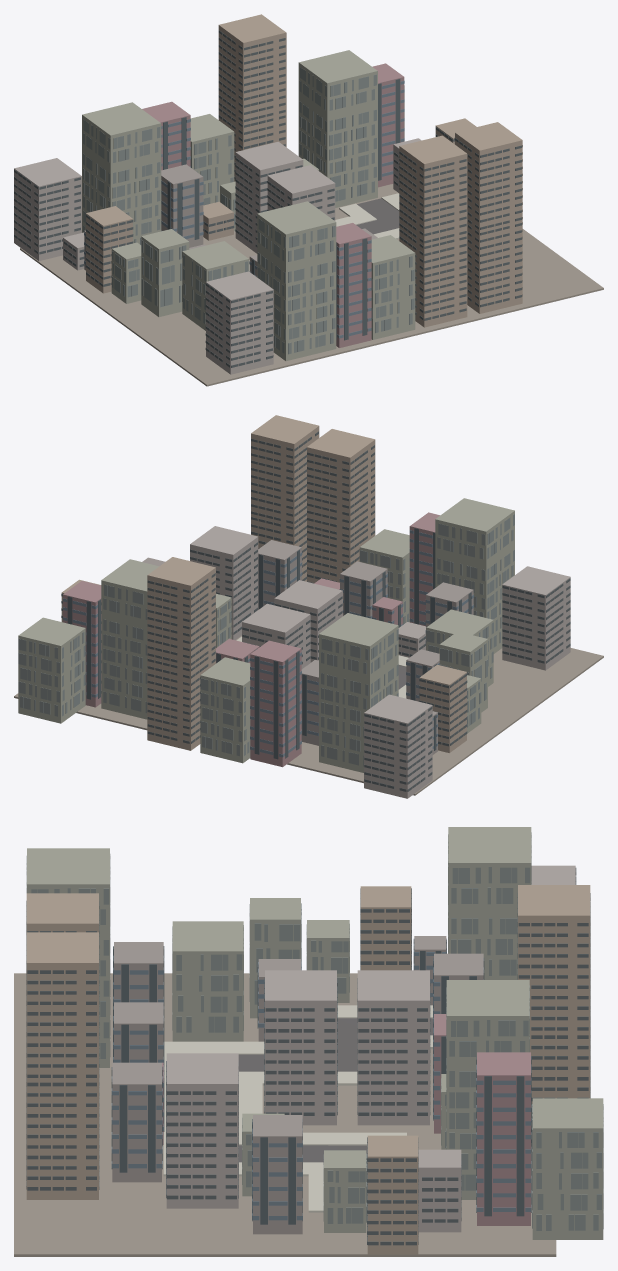
The model's file is level1 Vector color.fbx.
3 views of the same model, one above another, from view 1: azimuth 30°, elevation 25°; view 2: azimuth 150°, elevation 25°; view 3: azimuth 270°, elevation 25° (orthographic). The views are drawn at different scales.
Visible parts, largest first — view 1: Level1; view 2: Level1; view 3: Level1.
Part boxes in pixels (x1,y1,x2,y2): Level1: [14, 14, 603, 386]; Level1: [14, 415, 603, 798]; Level1: [14, 827, 603, 1256].
Bounding box in the file's own units: 35346 × 14010 × 31278.
